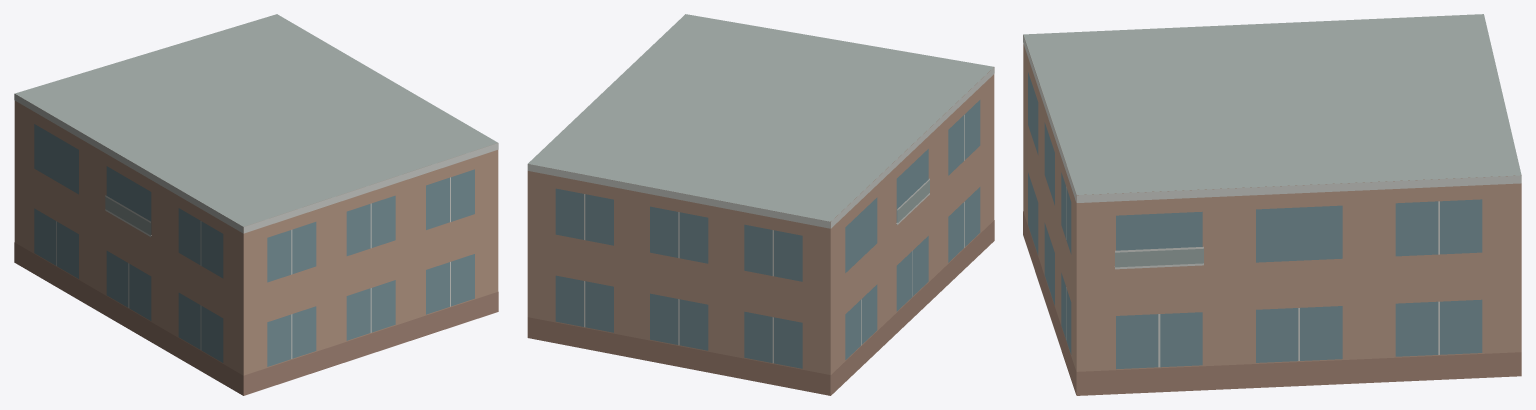
File: survey-upis-32782043.glb
The picture shows the model from 3 angles, left to right: view 1: azimuth 30°, elevation 25°; view 2: azimuth 150°, elevation 25°; view 3: azimuth 270°, elevation 25°; orthographic projection. The views are drawn at different scales.
Parts seen in each view (by area): view 1: survey-upis-32782043.tmp; view 2: survey-upis-32782043.tmp; view 3: survey-upis-32782043.tmp.
Part boxes in pixels (box(x1,y1,x2,y2)): survey-upis-32782043.tmp: box(14, 14, 498, 395); survey-upis-32782043.tmp: box(527, 14, 994, 395); survey-upis-32782043.tmp: box(1023, 14, 1521, 395).
Bounding box in the file's own units: 11.81 × 6.1 × 13.74.
